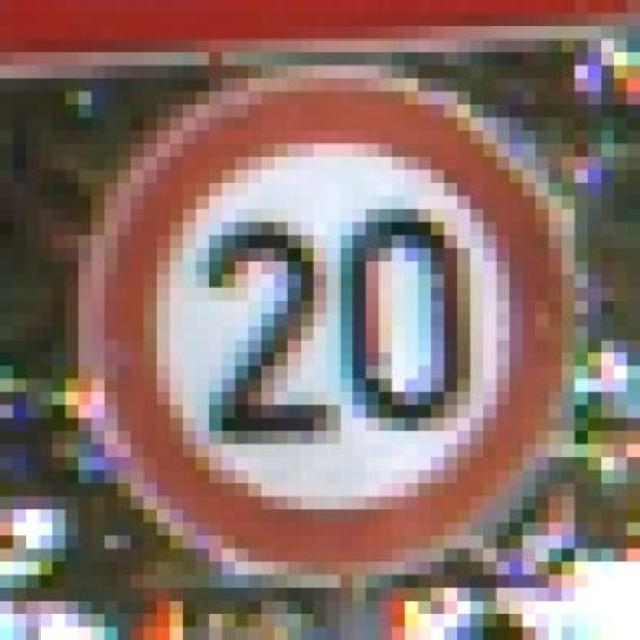forb_speed_over_20: (99, 76, 563, 562)
